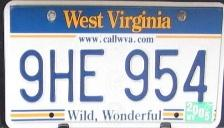4: (181, 48, 210, 104)
5: (153, 48, 180, 102)
9: (18, 48, 46, 103), (124, 47, 151, 102)
E: (79, 48, 105, 103)
H: (48, 48, 76, 103)
